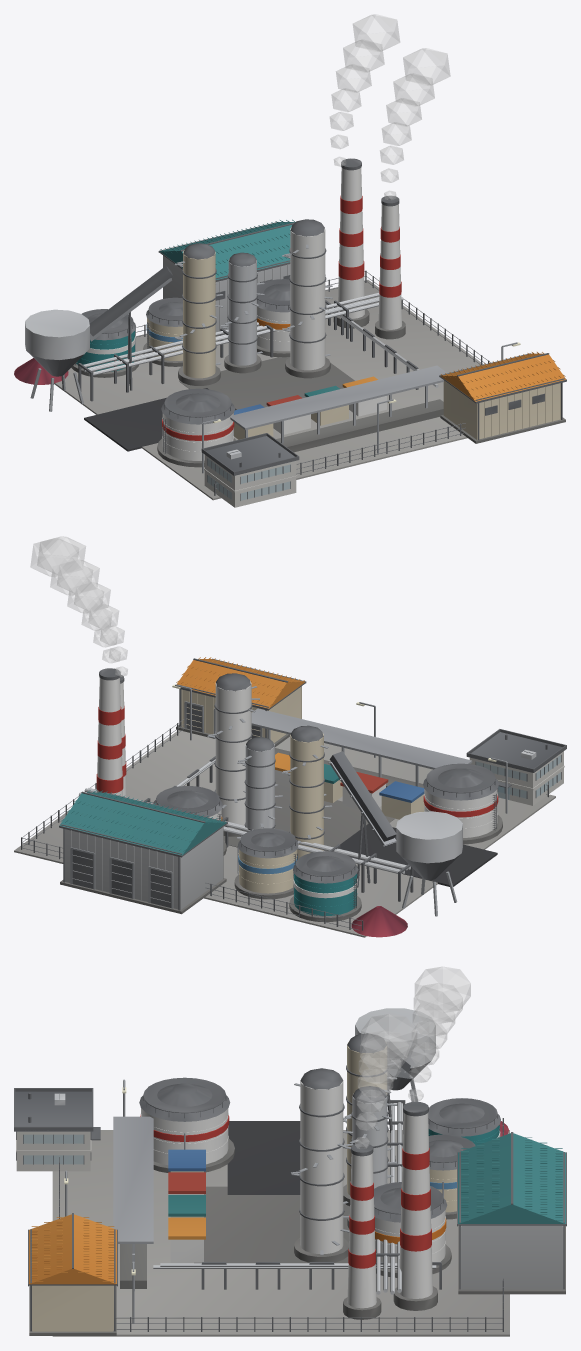
File: Refinery_P2.fbx
3 views of the same model, one above another, from view 1: azimuth 30°, elevation 25°; view 2: azimuth 150°, elevation 25°; view 3: azimuth 270°, elevation 25° (orthographic). The views are drawn at different scales.
Visible parts, largest first — view 1: Refinery.Pad, Refinery.Shed, Refinery.Bay, Refinery.Col2, Refinery.Office, Refinery.Hall, Refinery.Col0, Refinery.Tank0, Refinery.Smoke1, Refinery.Smoke0, Refinery.Intake, Refinery.Stack0 (+11 smaller); view 2: Refinery.Pad, Refinery.Hall, Refinery.Shed, Refinery.Office, Refinery.Col2, Refinery.Tank0, Refinery.Smoke0, Refinery.Tank1, Refinery.Bay, Refinery.Col0, Refinery.Intake, Refinery.Tank2 (+10 smaller); view 3: Refinery.Pad, Refinery.Hall, Refinery.Shed, Refinery.Col2, Refinery.Office, Refinery.Tank0, Refinery.Stack0, Refinery.Bay, Refinery.Stack1, Refinery.Smoke1, Refinery.Smoke0, Refinery.Utils (+10 smaller).
Boxes of the visible parts, <box> form: Refinery.Pad: <box>54,279,483,500</box>; Refinery.Shed: <box>439,352,566,443</box>; Refinery.Bay: <box>230,365,462,452</box>; Refinery.Col2: <box>282,219,332,378</box>; Refinery.Office: <box>201,433,299,507</box>; Refinery.Hall: <box>158,219,295,336</box>; Refinery.Col0: <box>175,243,223,385</box>; Refinery.Tank0: <box>157,388,235,467</box>; Refinery.Smoke1: <box>380,48,450,200</box>; Refinery.Smoke0: <box>330,14,399,166</box>; Refinery.Intake: <box>25,309,89,411</box>; Refinery.Stack0: <box>333,158,369,328</box>; Refinery.Pad: <box>14,730,555,937</box>; Refinery.Hall: <box>59,790,227,914</box>; Refinery.Shed: <box>176,657,306,746</box>; Refinery.Office: <box>466,729,566,805</box>; Refinery.Col2: <box>207,673,259,836</box>; Refinery.Tank0: <box>423,763,502,844</box>; Refinery.Smoke0: <box>37,536,127,676</box>; Refinery.Tank1: <box>289,851,361,921</box>; Refinery.Bay: <box>251,708,472,787</box>; Refinery.Col0: <box>282,725,332,858</box>; Refinery.Intake: <box>396,811,462,916</box>; Refinery.Tank2: <box>234,828,298,899</box>; Refinery.Pad: <box>52,1121,509,1336</box>; Refinery.Hall: <box>457,1132,566,1294</box>; Refinery.Shed: <box>28,1213,117,1335</box>; Refinery.Col2: <box>290,1068,353,1262</box>; Refinery.Office: <box>14,1088,100,1171</box>; Refinery.Tank0: <box>139,1077,234,1172</box>; Refinery.Stack0: <box>393,1101,437,1310</box>; Refinery.Bay: <box>113,1116,153,1290</box>; Refinery.Stack1: <box>343,1143,381,1319</box>; Refinery.Smoke1: <box>355,1014,416,1148</box>; Refinery.Smoke0: <box>408,966,470,1101</box>; Refinery.Utils: <box>168,1149,205,1262</box>.
Size of the model in its own units: 8771 by 5886 by 8223.
